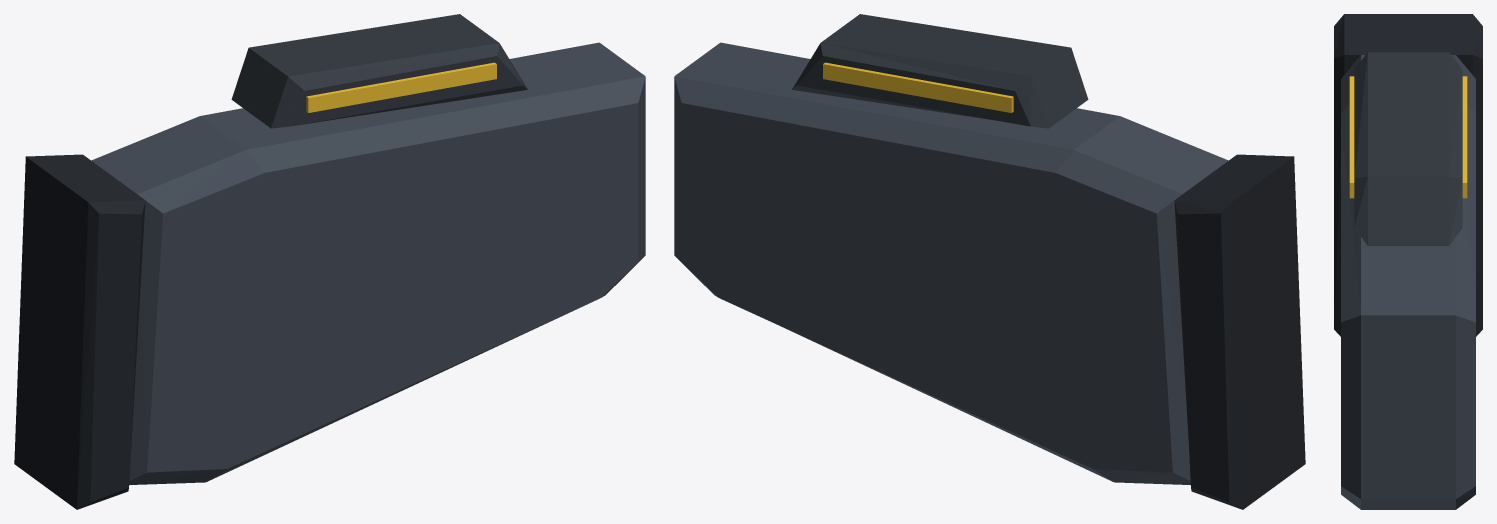
File: stock_cheek_rise.glb
The picture shows the model from 3 angles, left to right: view 1: azimuth 30°, elevation 25°; view 2: azimuth 150°, elevation 25°; view 3: azimuth 270°, elevation 25°; orthographic projection. The views are drawn at different scales.
Parts seen in each view (by area): view 1: stock_cheek_rise; view 2: stock_cheek_rise; view 3: stock_cheek_rise.
Boxes of the visible parts, box(x1,y1,x2,y2) form: stock_cheek_rise: box(14, 14, 645, 509); stock_cheek_rise: box(674, 14, 1305, 509); stock_cheek_rise: box(1334, 14, 1482, 509).
Bounding box in the file's own units: 0.202 × 0.128 × 0.044.
